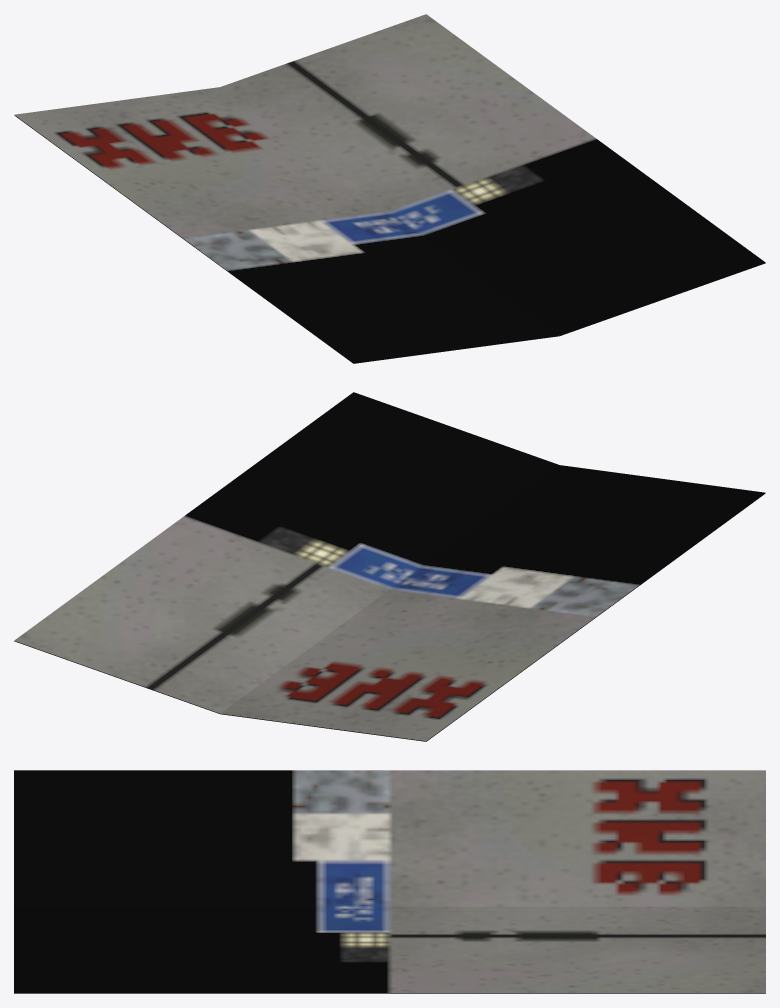
Rendered from note.fbx.
3 renders of one model, top to bottom at view 1: azimuth 30°, elevation 25°; view 2: azimuth 150°, elevation 25°; view 3: azimuth 270°, elevation 25°, orthographic. The views are drawn at different scales.
Parts seen in each view (by area): view 1: note; view 2: note; view 3: note.
Boxes of the visible parts, bbox=[...] form: note: bbox=[14, 14, 765, 363]; note: bbox=[14, 392, 765, 741]; note: bbox=[14, 770, 765, 993].
Size of the model in its own units: 0.1472 by 0.00793 by 0.21.
